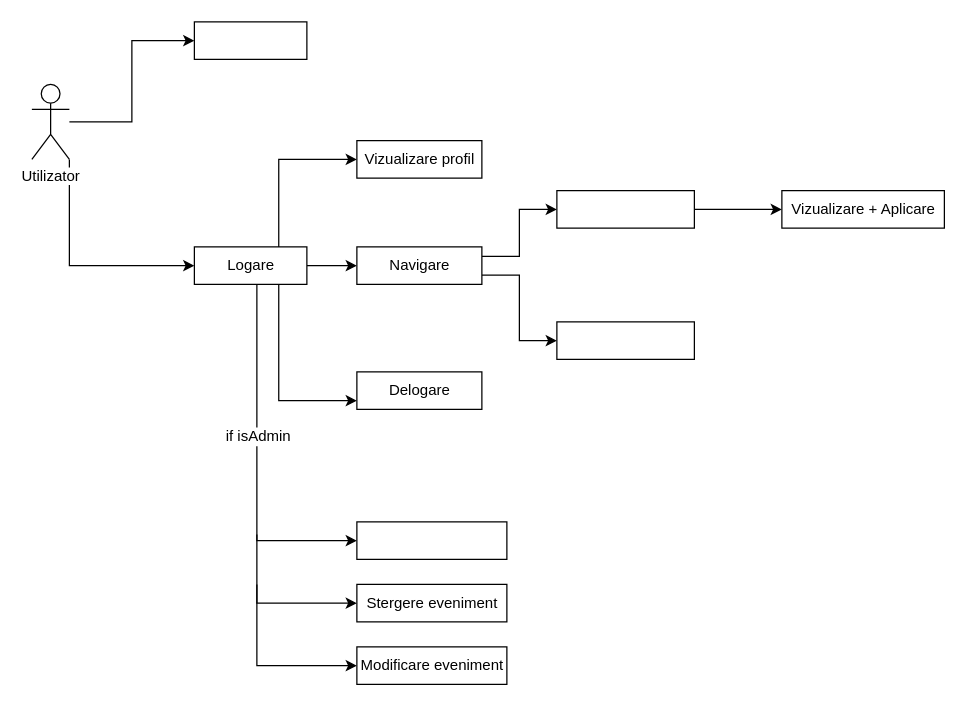
Some shapes in this 966 by 706 pixel diagram are drawn without their labels. The shapes that lost their labels are listed below. From the top down, each one's centre as x and y in pixels, then its label:
the point at 250,40: Inregistrare
the point at 625,208: Job-uri / stagii
the point at 625,340: Statistici personale
the point at 431,540: Adaugare eveniment
